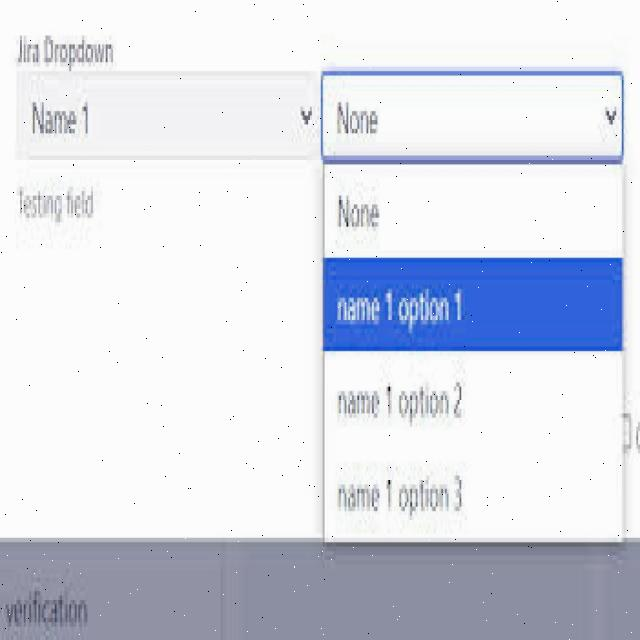dropdownMenu: (322, 73, 621, 545), (22, 74, 318, 159)
label: (12, 180, 112, 234), (9, 31, 133, 69)
menuItem: (323, 257, 625, 352), (333, 374, 482, 429), (334, 466, 474, 522), (331, 183, 392, 240)
